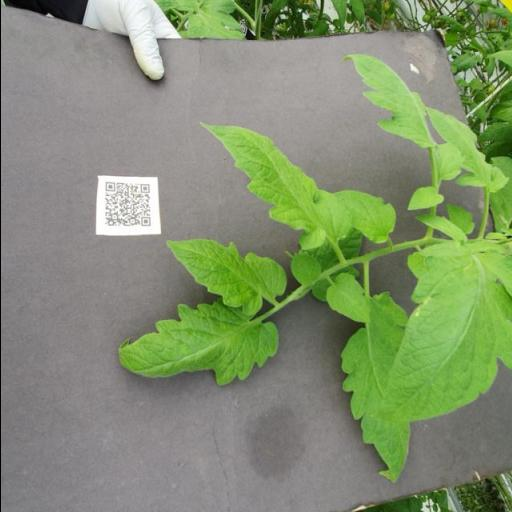Healthy: (388, 238, 512, 430), (198, 124, 352, 251), (338, 292, 412, 485), (116, 300, 278, 386), (164, 236, 286, 317), (338, 50, 432, 148), (332, 189, 394, 245), (324, 274, 371, 322)
